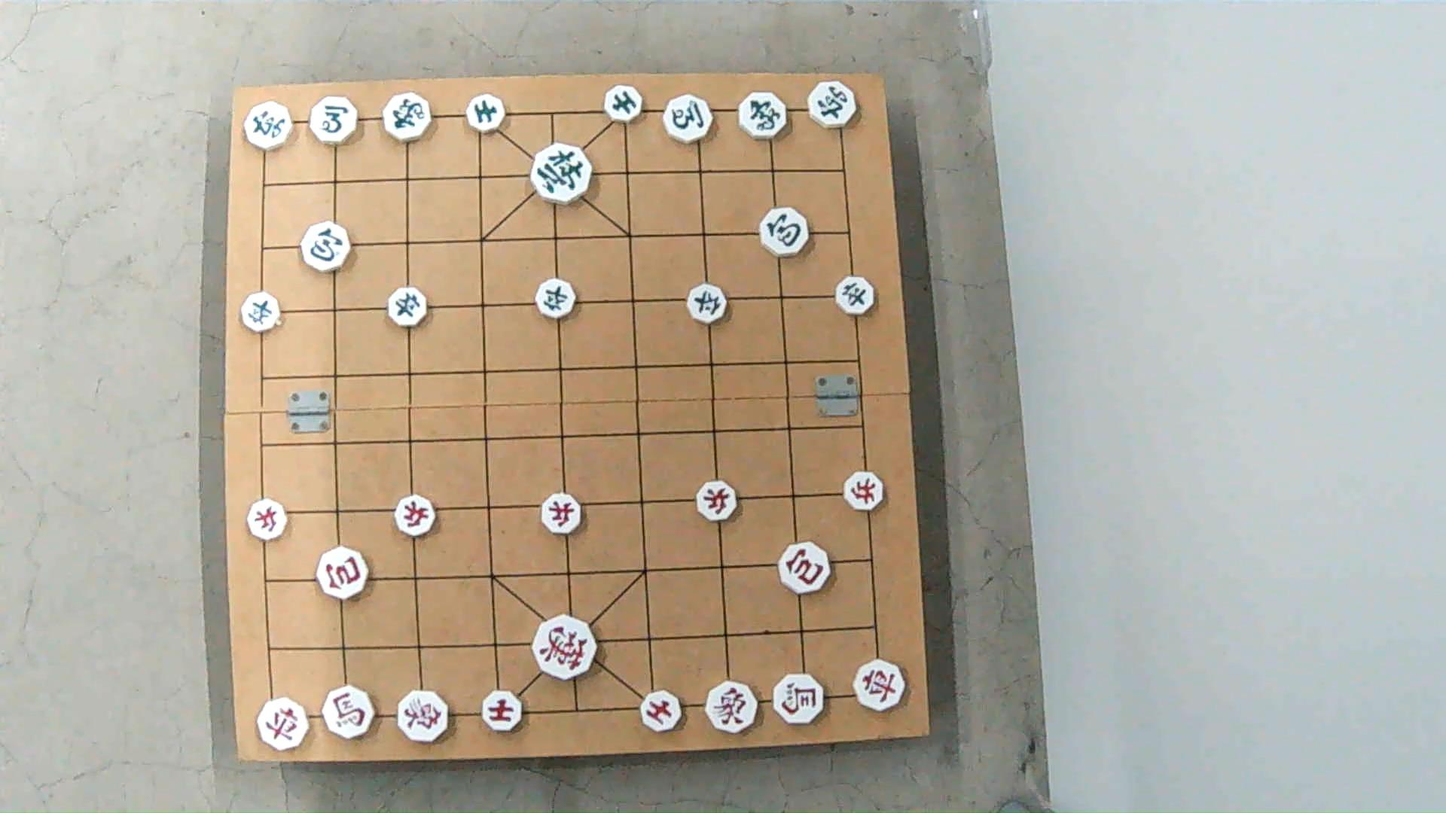cha_green: (807, 80, 858, 129), (244, 103, 294, 148)
cha_red: (256, 696, 316, 748), (853, 657, 905, 711)
jol_green: (386, 289, 428, 327), (689, 287, 731, 325), (238, 295, 280, 333), (537, 282, 578, 320), (838, 279, 879, 315)
jol_red: (540, 494, 584, 534), (697, 482, 740, 521), (392, 496, 435, 535), (245, 500, 285, 539), (846, 473, 887, 511)
ma_green: (662, 95, 715, 144), (307, 99, 358, 144)
ma_red: (773, 672, 825, 723), (322, 685, 371, 738)
po_green: (762, 209, 814, 255), (303, 222, 352, 270)
po_red: (776, 545, 829, 594), (317, 549, 370, 598)
sa_green: (465, 97, 505, 133), (605, 88, 646, 123)
sa_red: (639, 690, 682, 731), (480, 693, 521, 732)
sang_green: (383, 96, 435, 142), (740, 91, 788, 136)
sang_red: (703, 680, 761, 732), (399, 693, 451, 743)
wang_green: (532, 147, 594, 202)
wang_red: (534, 620, 598, 681)
